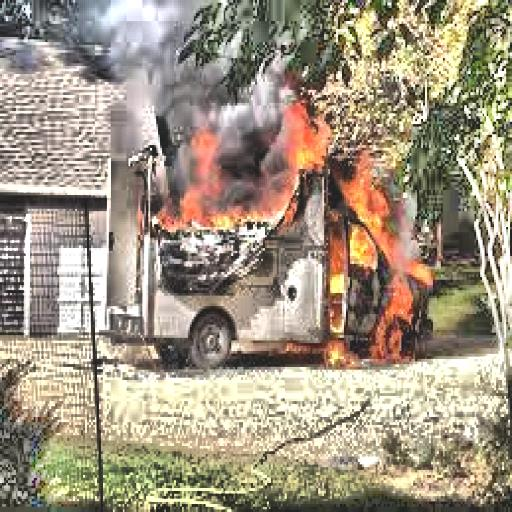fire: (326, 156, 453, 382), (148, 116, 340, 248)
